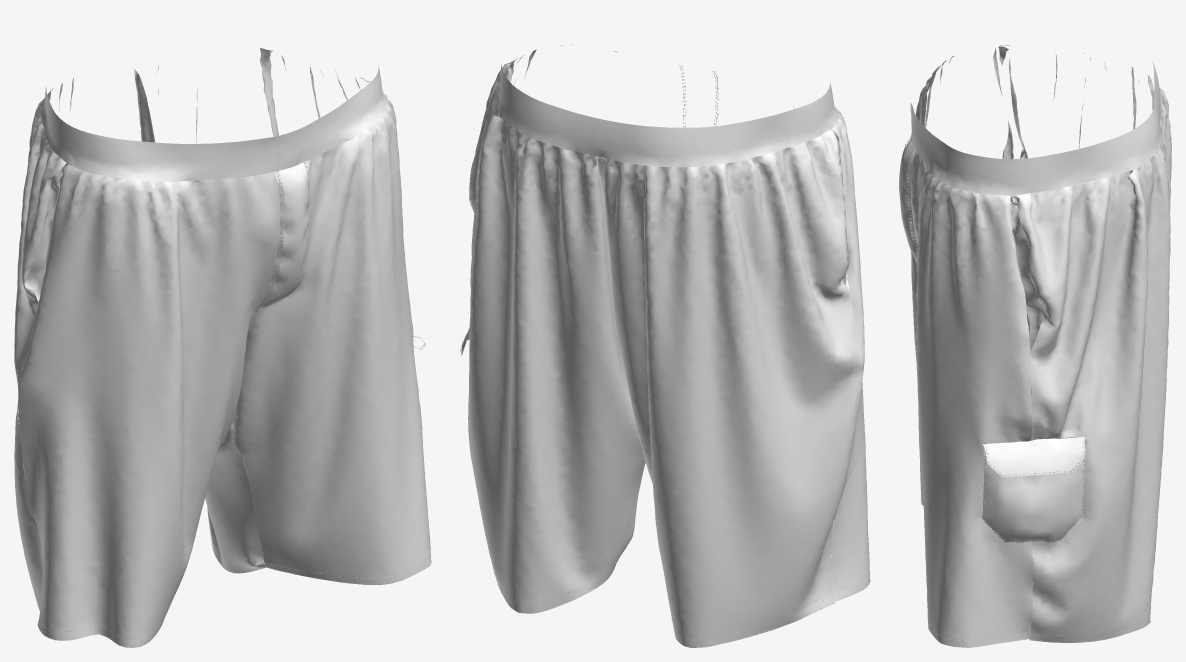
The model's file is Volleyball shorts spandex 4.glb.
The picture shows the model from 3 angles, left to right: view 1: azimuth 30°, elevation 25°; view 2: azimuth 150°, elevation 25°; view 3: azimuth 270°, elevation 25°; orthographic projection. The views are drawn at different scales.
Parts seen in each view (by area): view 1: Pattern_3486357; view 2: Pattern_3486357; view 3: Pattern_3486357.
Part boxes in pixels (x1=…): Pattern_3486357: x1=14, y1=48, x2=431, y2=647; Pattern_3486357: x1=460, y1=44, x2=870, y2=647; Pattern_3486357: x1=899, y1=45, x2=1171, y2=647.
Bounding box in the file's own units: 0.4485 × 0.5674 × 0.2789.
Materials: 6 (3 with a texture image).
